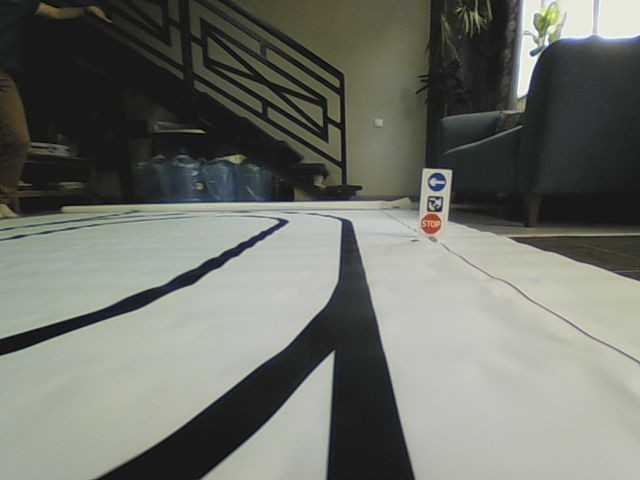Stop: (420, 213, 442, 234)
